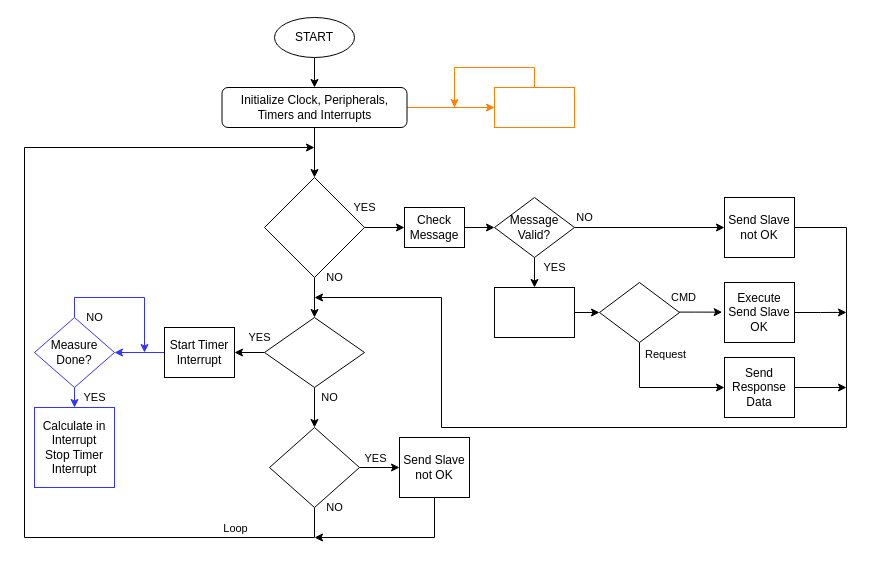
The diagram is 872 pixels wide and 563 high, and some of its shapes have lost their labels. The shapes that lost their labels are listed below. From the top down, each one's centre as x and y in pixels, then its label:
At (x=534, y=107): "UART RX Interrupt".
At (x=314, y=227): "Receive Full Message?".
At (x=534, y=312): "Process Message".
At (x=639, y=312): "What type?".
At (x=314, y=352): "Time to Measure?".
At (x=314, y=467): "Any Error?".
